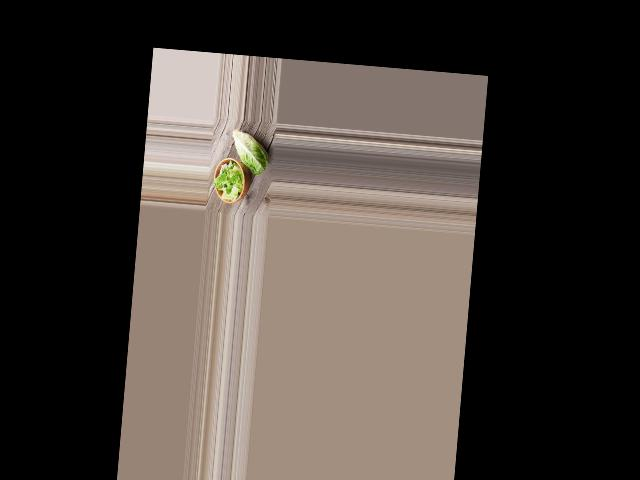lettuce: (228, 130, 272, 175)
